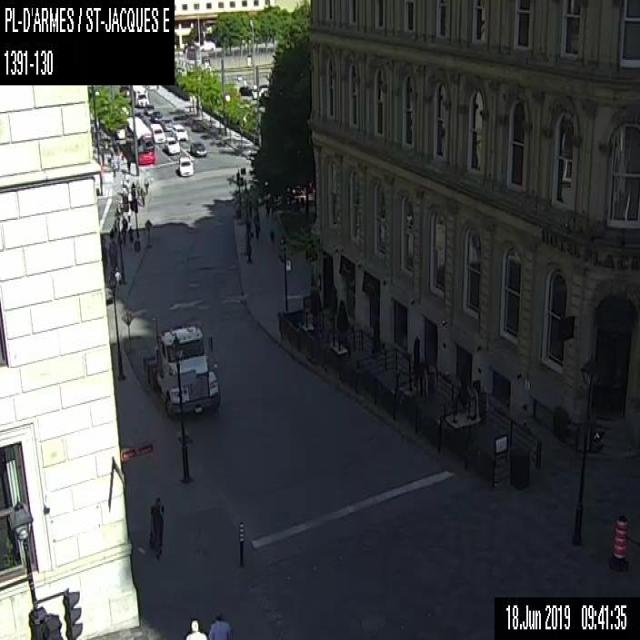bus: (125, 116, 154, 164)
construction: (608, 512, 626, 572)
pedestrian: (147, 495, 164, 561), (207, 612, 232, 638), (182, 618, 207, 638), (113, 266, 122, 300), (252, 209, 260, 239), (127, 225, 134, 249), (124, 151, 131, 173), (120, 224, 126, 245), (143, 176, 148, 194), (140, 189, 144, 205)
vehicle: (144, 320, 220, 417), (132, 84, 148, 106), (178, 155, 193, 176), (171, 123, 188, 140), (189, 141, 206, 157), (164, 136, 179, 154), (150, 123, 164, 142), (251, 83, 268, 98), (160, 116, 174, 130), (199, 39, 215, 51), (150, 110, 162, 121), (118, 84, 129, 95), (143, 104, 154, 114)
